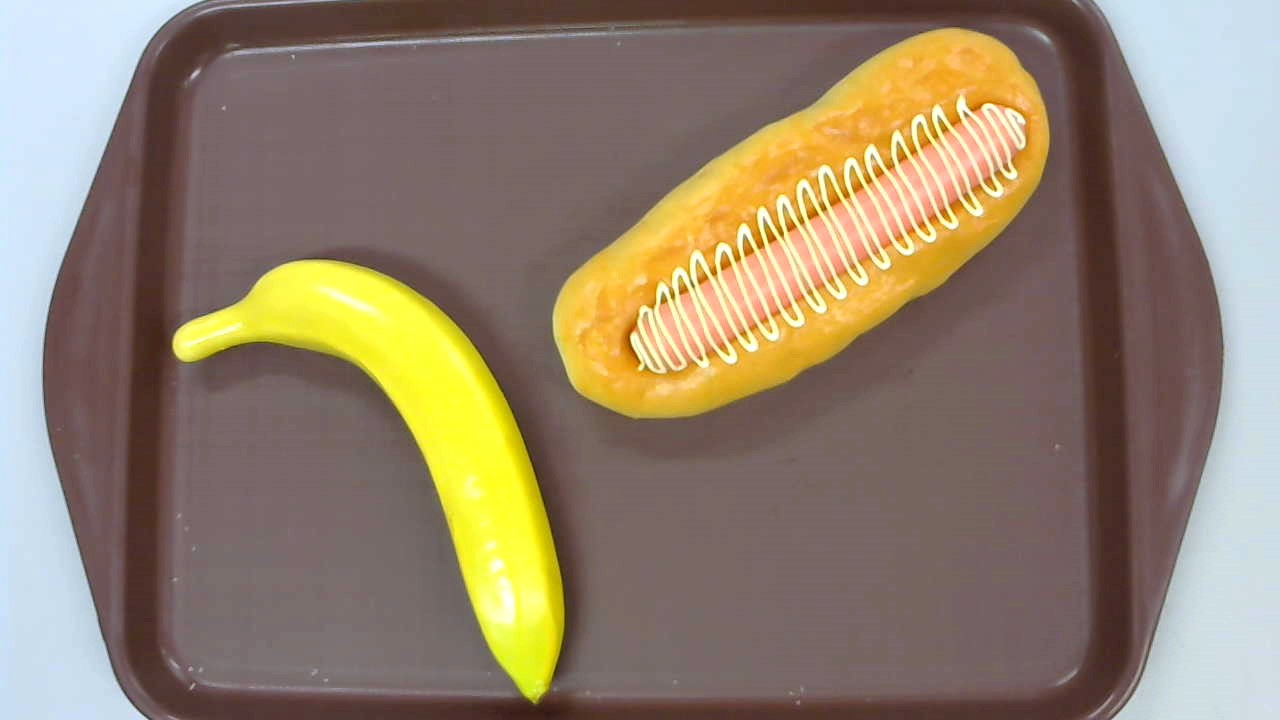banana: (172, 258, 565, 705)
hot dog: (553, 28, 1050, 420)
